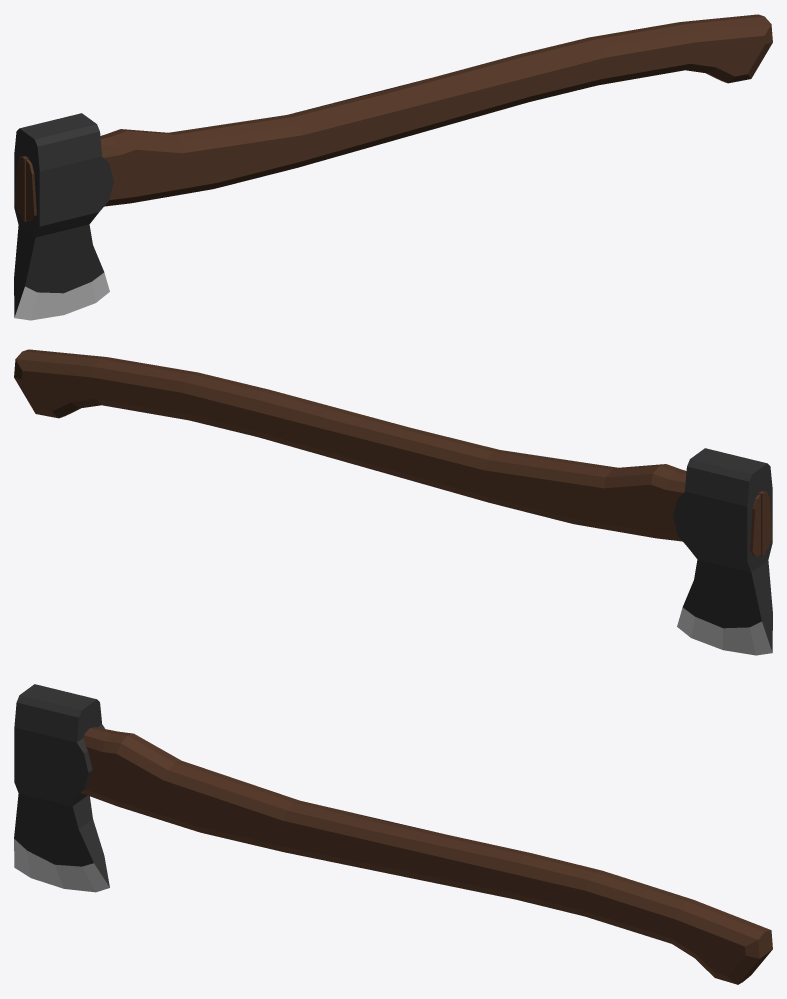
Rendered from low-poly_axe.glb.
The picture shows the model from 3 angles, top to bottom: view 1: azimuth 30°, elevation 25°; view 2: azimuth 150°, elevation 25°; view 3: azimuth 330°, elevation 25°; orthographic projection.
Visible parts, largest first — view 1: axe_0; view 2: axe_0; view 3: axe_0.
Part boxes in pixels (left/top/right/bottom): axe_0: left=14, top=14, right=772, bottom=320; axe_0: left=14, top=349, right=772, bottom=655; axe_0: left=14, top=684, right=772, bottom=984.
Bounding box in the file's own units: 4.66 × 1.13 × 0.2722.
